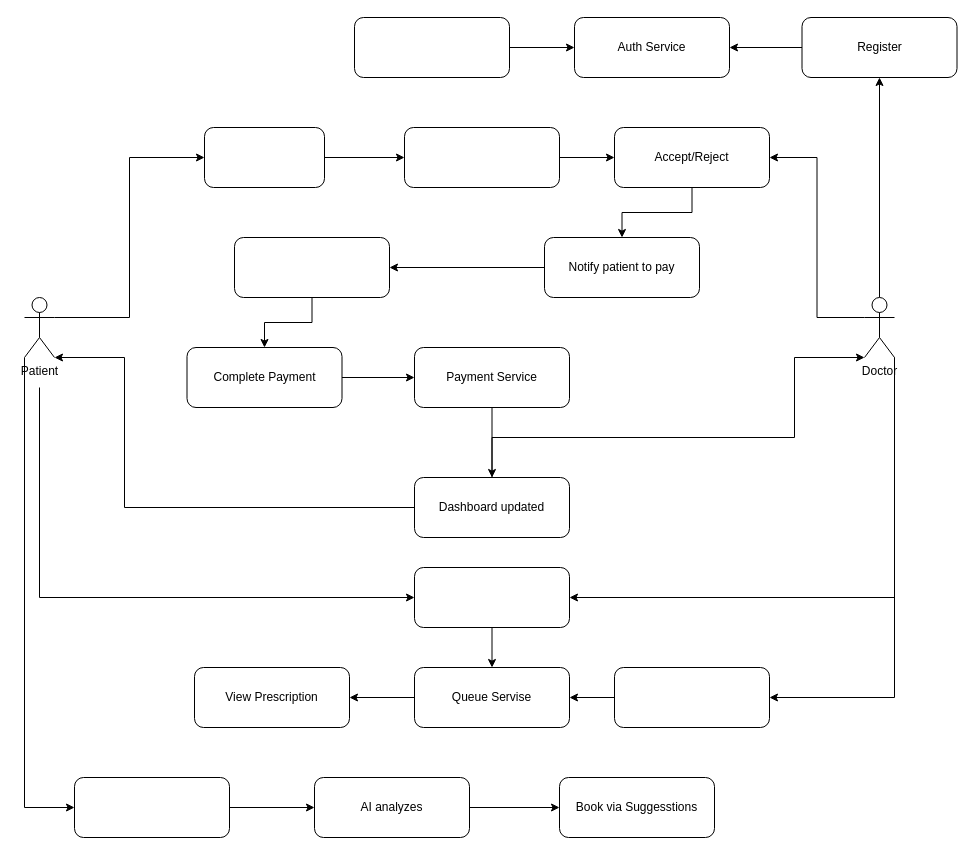
This 975x855 diagram has some shape labels left out. The shapes that lost their labels are listed below. From the top down, each one's box as (x1, y1, x2, y2) in pixels, then its label:
(354, 16, 510, 78): Admin verifies doctor
(204, 126, 324, 188): Search & book slot
(404, 126, 560, 188): Validate & Notify doctor
(234, 236, 390, 298): Await Payment
(414, 566, 570, 628): Join Jitsi Meet
(614, 666, 770, 728): Upload Prescription
(74, 776, 230, 838): Enter symptoms
